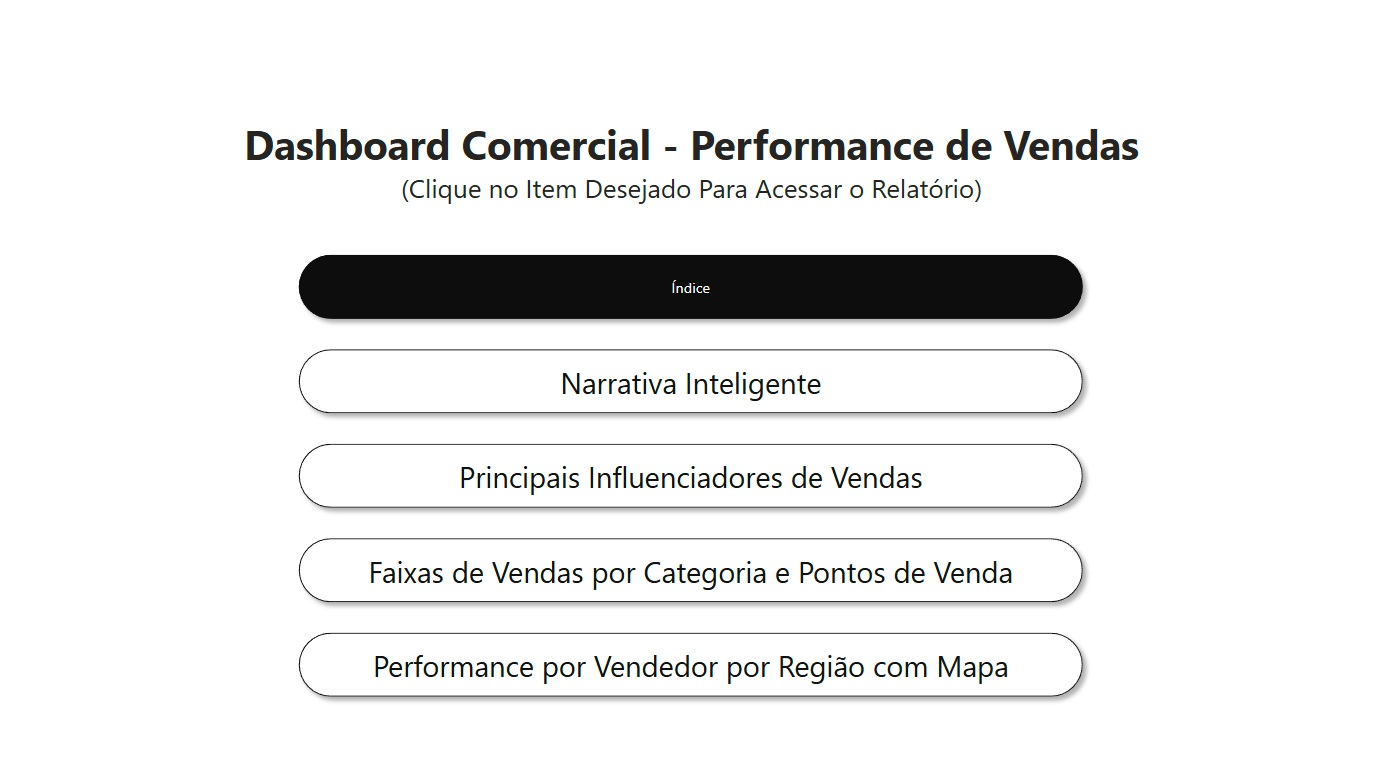

This screenshot's page, from the dashboard's own definition file:
{"tool":"powerbi","page":{"name":"Índice","canvas":[1280,720],"ordinal":0},"visuals":[{"type":"pageNavigator","box":[269,230.3,740.5,429.8],"z":0},{"type":"textbox","box":[174.7,106.7,929.1,123.7],"z":1}]}

Visuals, with their boxes in screenshot pixels (x1, y1, x2, y2), scaled from the page's 1280x720 canvas onto the 1380x766 screenshot:
pageNavigator: 290,245,1088,702
textbox: 188,114,1190,245
